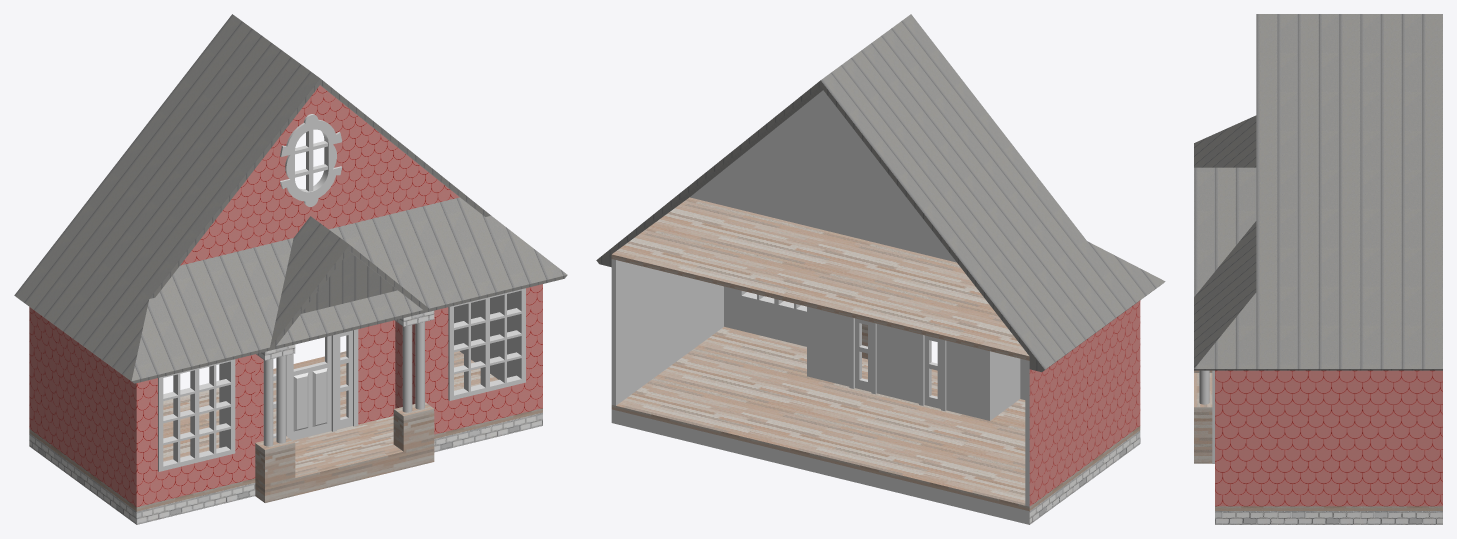
The model's file is toy_dollhouse.fbx.
3 views of the same model, side by side, from view 1: azimuth 30°, elevation 25°; view 2: azimuth 150°, elevation 25°; view 3: azimuth 270°, elevation 25° (orthographic). The views are drawn at different scales.
Parts seen in each view (by area): view 1: toy_dollhouse_roof, toy_dollhouse, toy_dollhouse_first_floor, toy_dollhouse_door, toy_dollhouse_right_window, toy_dollhouse_left_window, toy_dollhouse_pillars, toy_dollhouse_top_window; view 2: toy_dollhouse, toy_dollhouse_roof, toy_dollhouse_first_floor, toy_dollhouse_second_floor, toy_dollhouse_door, toy_dollhouse_left_window; view 3: toy_dollhouse_roof, toy_dollhouse, toy_dollhouse_first_floor, toy_dollhouse_pillars.
Boxes of the visible parts, left/top/right/bottom form: toy_dollhouse_roof: left=14, top=14, right=567, bottom=383; toy_dollhouse: left=29, top=85, right=542, bottom=524; toy_dollhouse_first_floor: left=29, top=351, right=542, bottom=511; toy_dollhouse_door: left=273, top=329, right=358, bottom=440; toy_dollhouse_right_window: left=158, top=359, right=235, bottom=471; toy_dollhouse_left_window: left=448, top=288, right=525, bottom=400; toy_dollhouse_pillars: left=263, top=321, right=424, bottom=446; toy_dollhouse_top_window: left=280, top=114, right=342, bottom=206; toy_dollhouse: left=611, top=90, right=1140, bottom=524; toy_dollhouse_roof: left=596, top=14, right=1165, bottom=372; toy_dollhouse_first_floor: left=611, top=324, right=1140, bottom=511; toy_dollhouse_second_floor: left=611, top=197, right=1029, bottom=360; toy_dollhouse_door: left=849, top=317, right=946, bottom=410; toy_dollhouse_left_window: left=737, top=289, right=806, bottom=315; toy_dollhouse_roof: left=1194, top=14, right=1442, bottom=370; toy_dollhouse: left=1215, top=370, right=1442, bottom=524; toy_dollhouse_first_floor: left=1194, top=370, right=1442, bottom=510; toy_dollhouse_pillars: left=1199, top=370, right=1209, bottom=404.
Size of the model in its own units: 1.26 by 1.06 by 0.5881.
5 materials, 4 textured.
